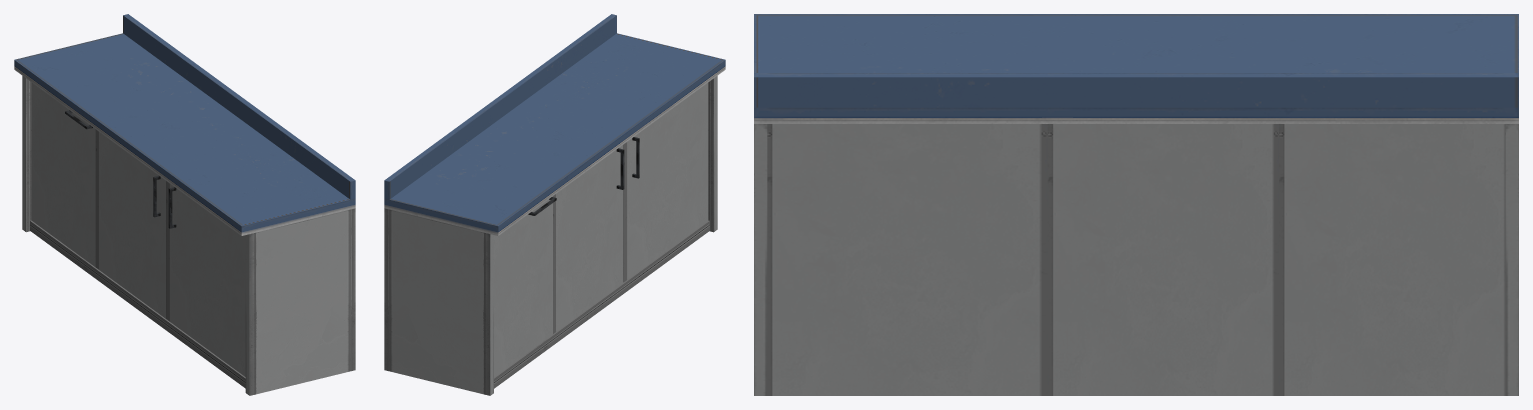
The model's file is HH_ Base_Cabinet_2m_01.fbx.
The picture shows the model from 3 angles, left to right: view 1: azimuth 30°, elevation 25°; view 2: azimuth 150°, elevation 25°; view 3: azimuth 270°, elevation 25°; orthographic projection. The views are drawn at different scales.
Visible parts, largest first — view 1: HH_ Base_Cabinet_2m_01; view 2: HH_ Base_Cabinet_2m_01; view 3: HH_ Base_Cabinet_2m_01.
Part boxes in pixels (bbox=[...]): HH_ Base_Cabinet_2m_01: bbox=[14, 14, 355, 395]; HH_ Base_Cabinet_2m_01: bbox=[384, 14, 725, 395]; HH_ Base_Cabinet_2m_01: bbox=[754, 14, 1518, 395].
Size of the model in its own units: 57.9 by 91.95 by 200.
